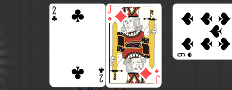4C: (51, 6, 59, 23)
9C: (177, 52, 194, 59)
